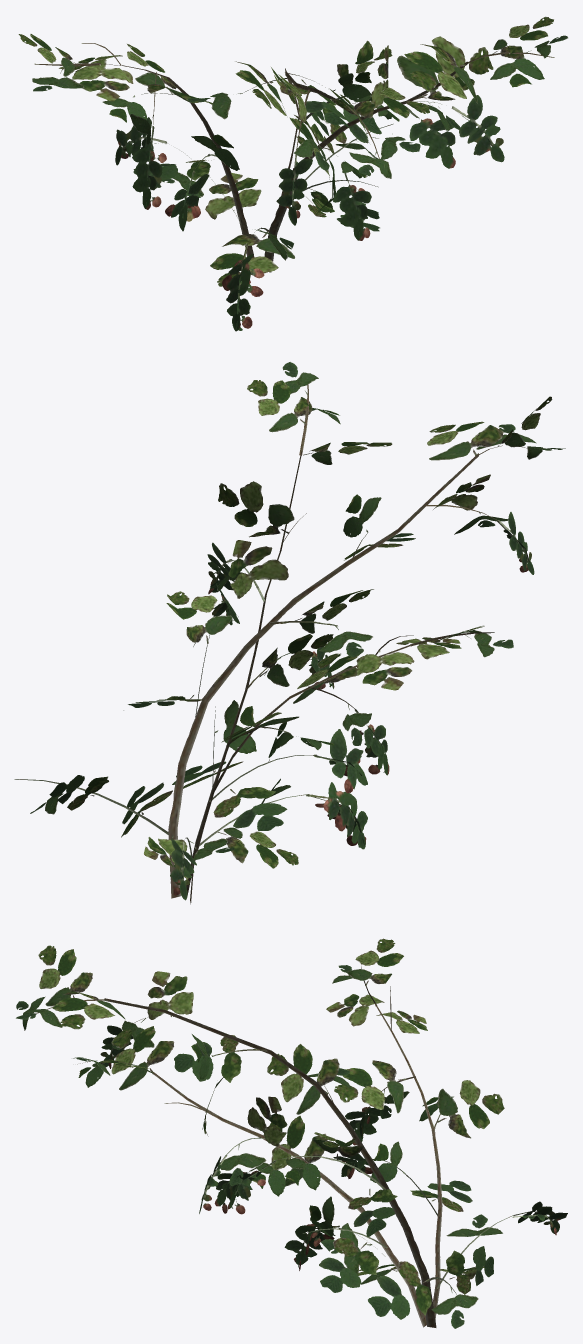
The model's file is arden_forest_raspberry_02.fbx.
The picture shows the model from 3 angles, top to bottom: view 1: azimuth 30°, elevation 25°; view 2: azimuth 150°, elevation 25°; view 3: azimuth 270°, elevation 25°; orthographic projection. The views are drawn at different scales.
Visible parts, largest first — view 1: arden_forest_raspberry_02; view 2: arden_forest_raspberry_02; view 3: arden_forest_raspberry_02.
Part boxes in pixels (x1,y1,x2,y2): arden_forest_raspberry_02: (18,16,567,331); arden_forest_raspberry_02: (14,362,565,904); arden_forest_raspberry_02: (16,938,567,1328).
Bounding box in the file's own units: 1.67 × 2.17 × 1.39.
